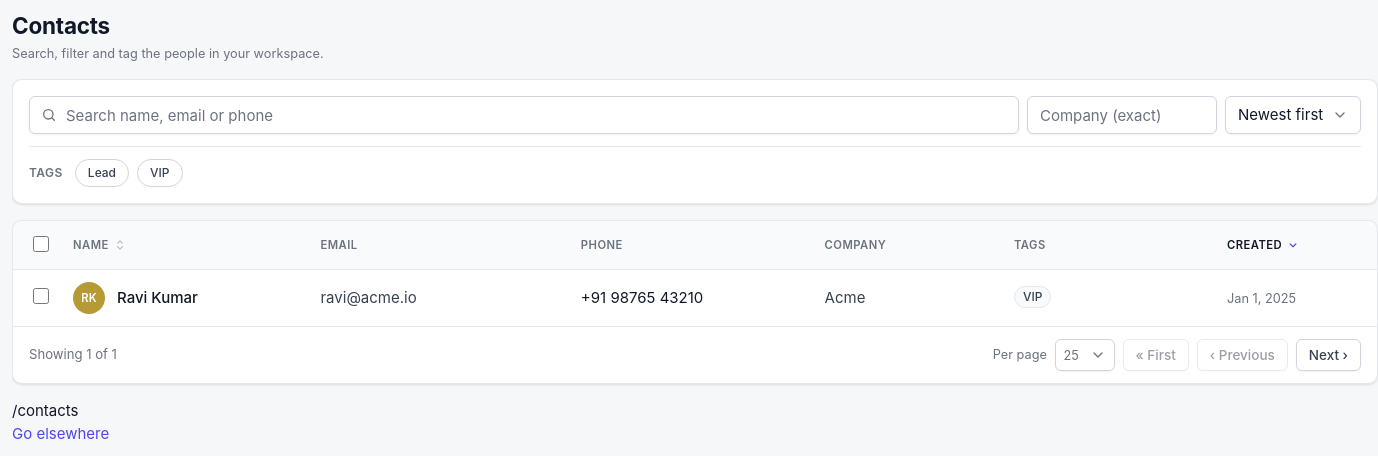
Test: ContactsPage › pages forward with the cursor from the server
Expected: the link "Ravi Kumar" is shown, 117,287 -> 198,309
Expected: the button "‹ Previous" is disabled, 1197,339 -> 1288,371
What coordinates should you click on to do the following:
click the button "Next ›"
I would click on:
 (1328, 355)
Its box is 1296,339 -> 1361,371.
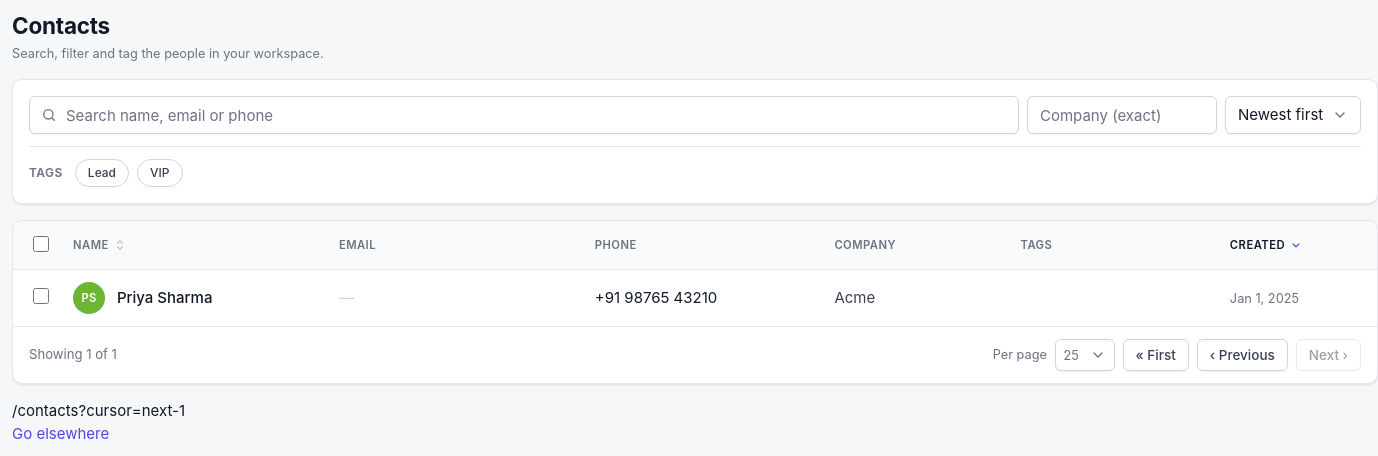
Result: the link "Priya Sharma" is shown at 117,287 -> 212,309
Result: the button "Next ›" is disabled at 1296,339 -> 1361,371
Result: the button "‹ Previous" is enabled at 1197,339 -> 1288,371
